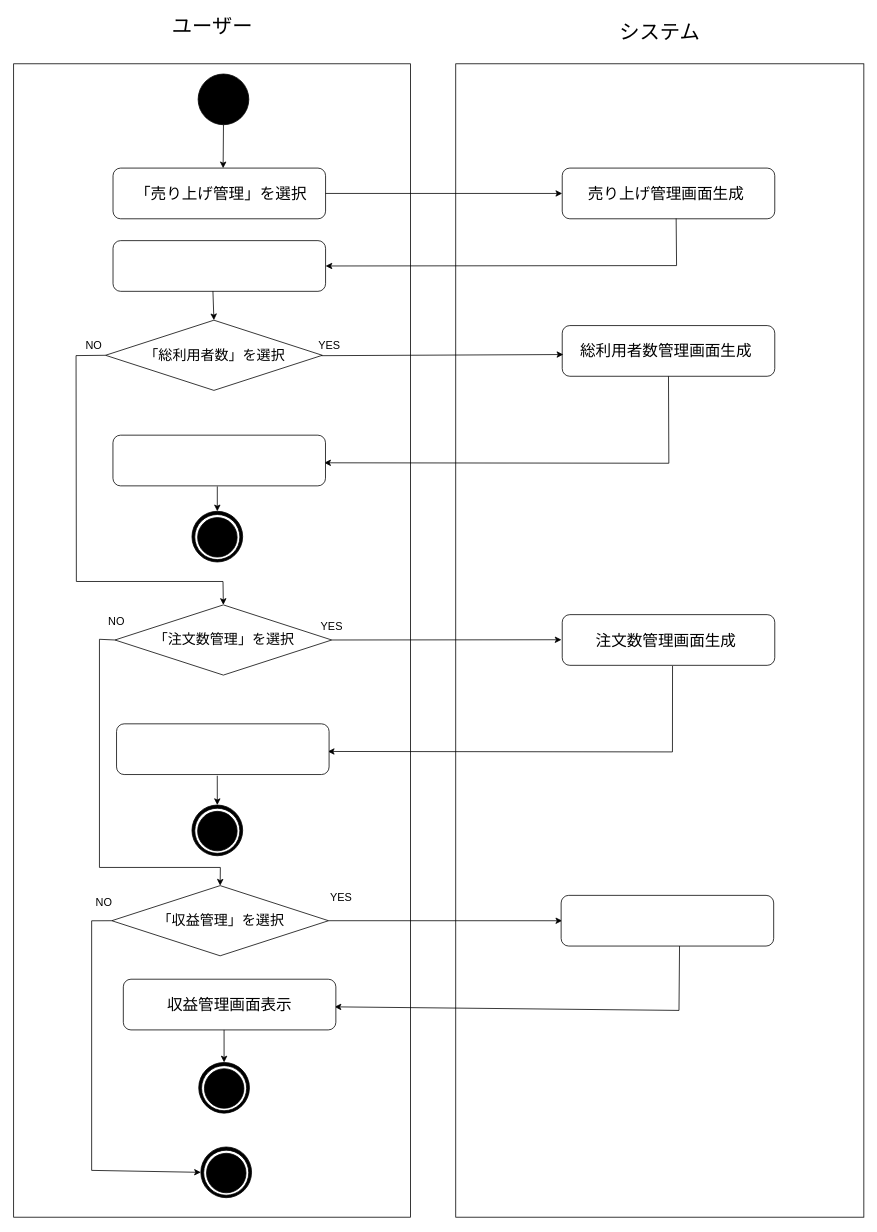
Some shapes in this 877 by 1232 pixel diagram are drawn without their labels. Each missing label, with the centre of its shape:
"収益管理画面生成" belongs at (x=667, y=920).
"売り上げ 管理画面表示" belongs at (x=219, y=265).
"注文数管理 画面表示" belongs at (x=222, y=749).
"総利用者数管理 画面表示" belongs at (x=218, y=460).
